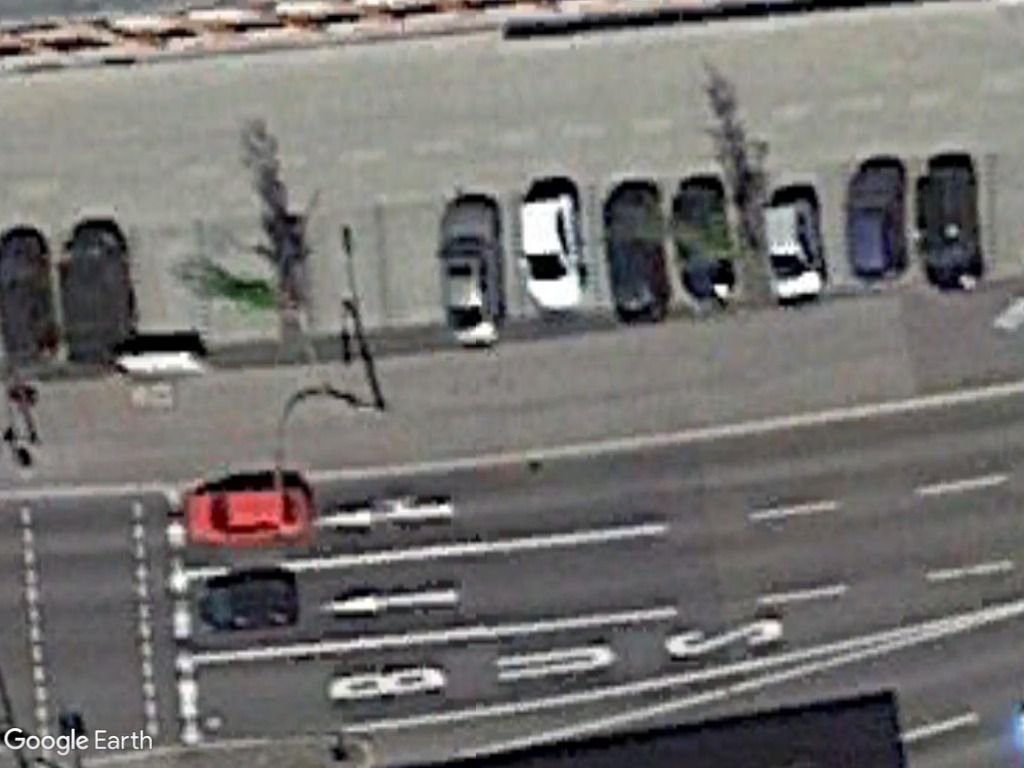car: (434, 192, 513, 354), (518, 187, 593, 317), (183, 482, 316, 550), (759, 191, 830, 310)
